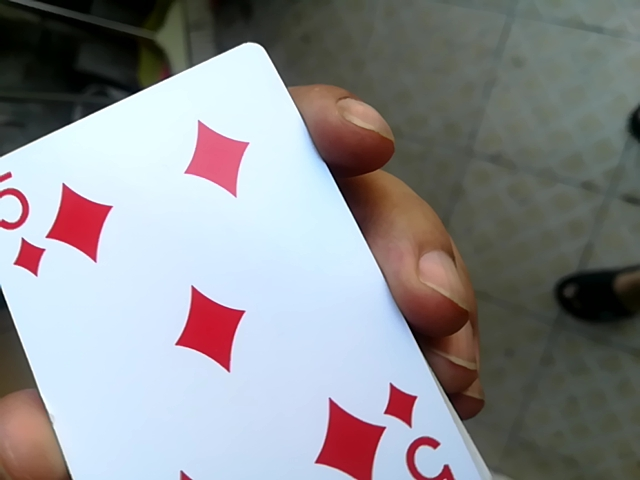fk 5: (10, 43, 470, 478)
